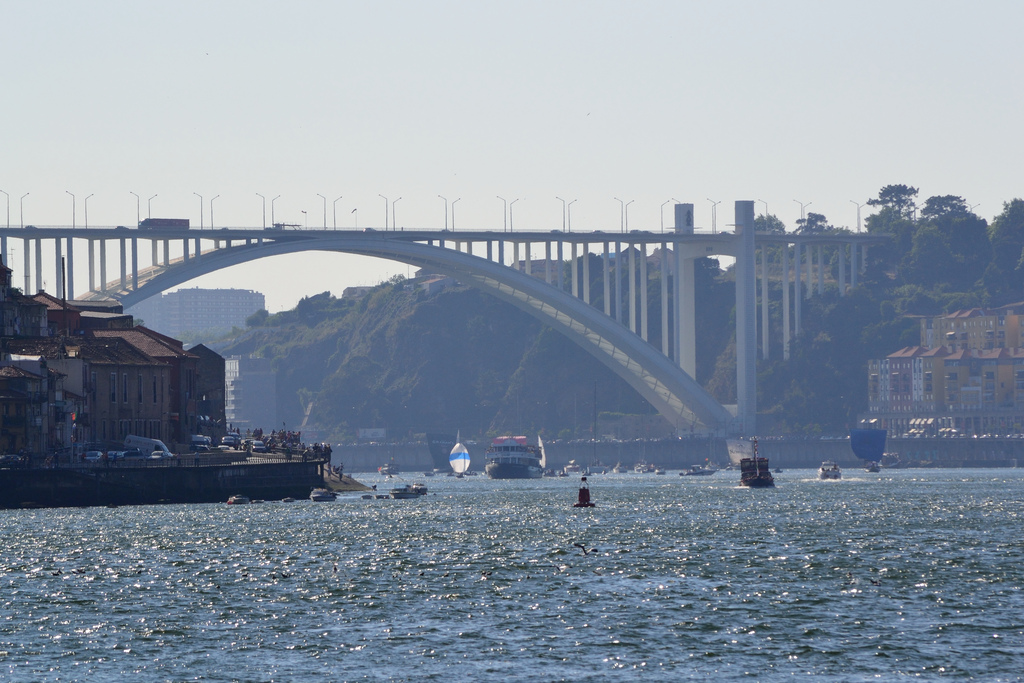arrabida: (0, 199, 893, 434)
